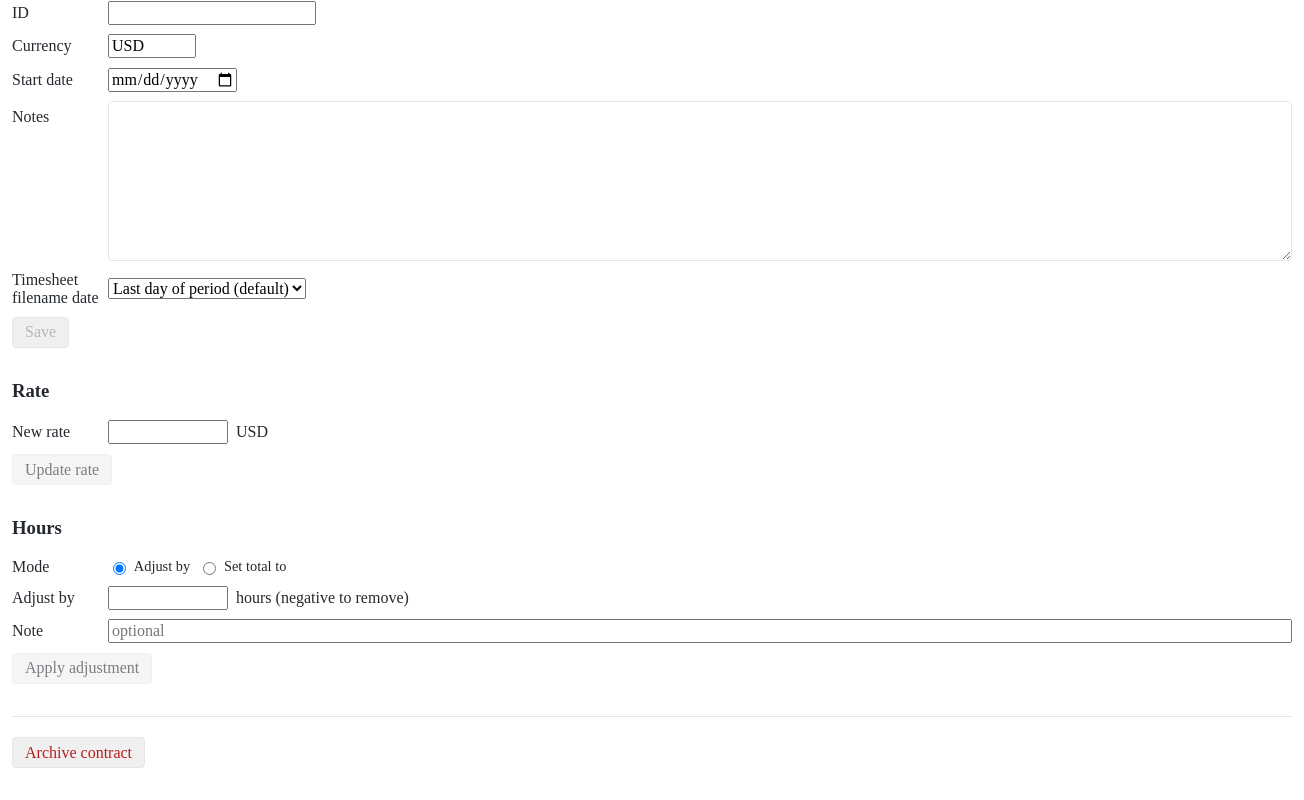
Test case: Contract detail Hours section › allows a total of zero but not an adjustment of zero
The image size is (1304, 800).
(page scrolled)
Type "0" into the number field with id "hours-adjustment" at x=168, y=598, box x1=108 y1=586 x2=228 y2=610
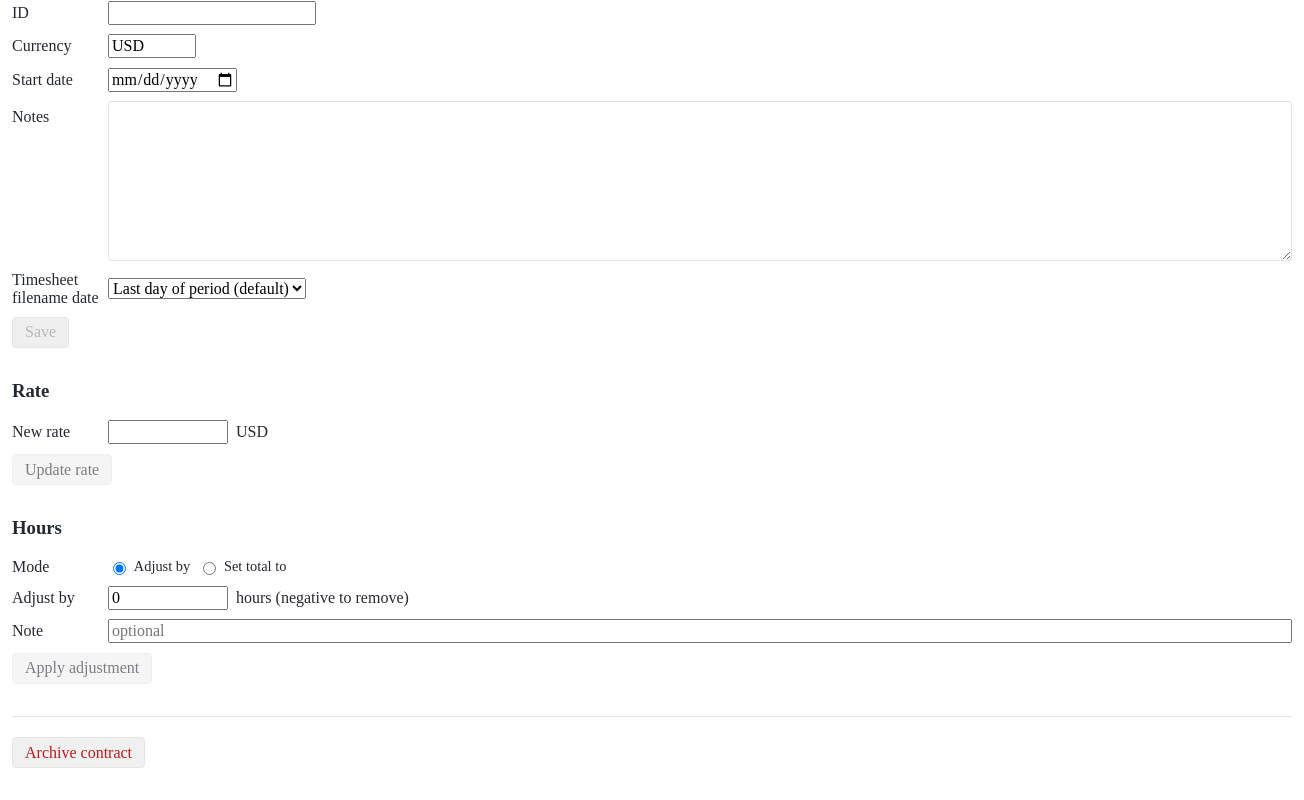
Expected: the button "Apply adjustment" is disabled, x1=12 y1=653 x2=152 y2=684
Click the radio button labelled "Set total to" at x=210, y=568, box x1=203 y1=562 x2=216 y2=575
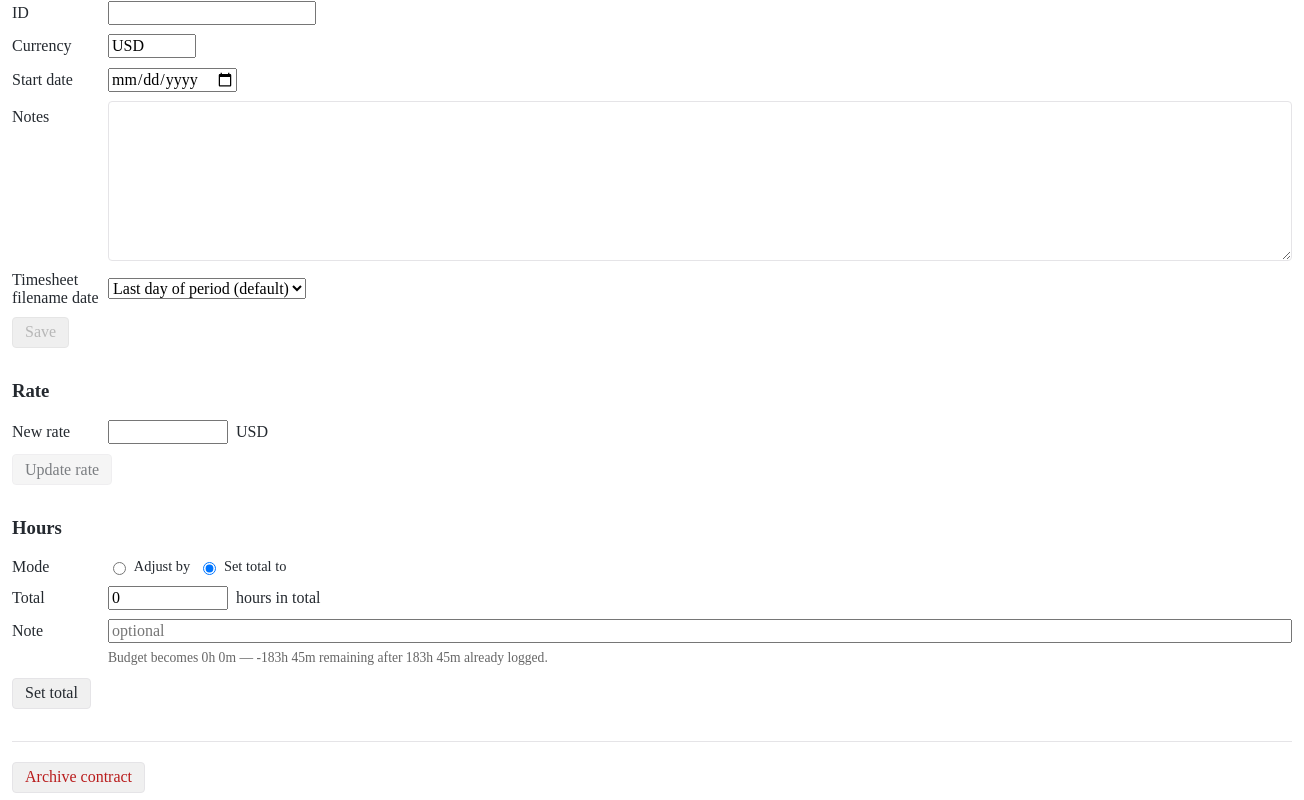
Expected: the button "Set total" is enabled, x1=12 y1=678 x2=91 y2=709
